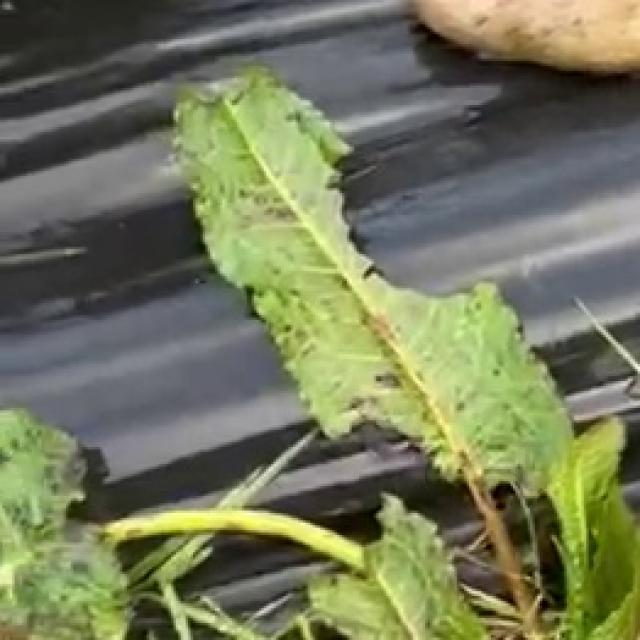organic waste: (135, 73, 640, 640)
